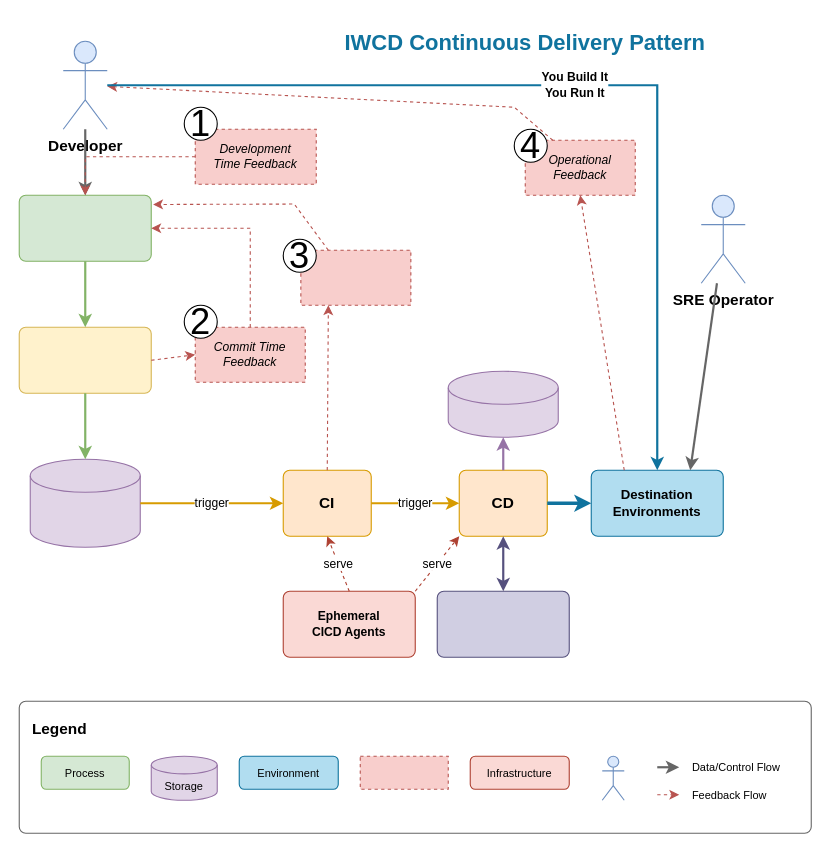
The diagram is 831 pixels wide and 853 high, and some of its shapes have lost their labels. Here are the shapes that lost their labels. From the top down, the centre of each, then its label:
At [84,227]: "Code Authoring".
At [355,277]: "CI Time Feedback".
At [84,359]: "Commit Time Checks".
At [502,403]: "Artifactory".
At [84,502]: "Source Control".
At [502,623]: "Verification Environments".
At [403,772]: "Feedback".
At [612,777]: "Actor".
